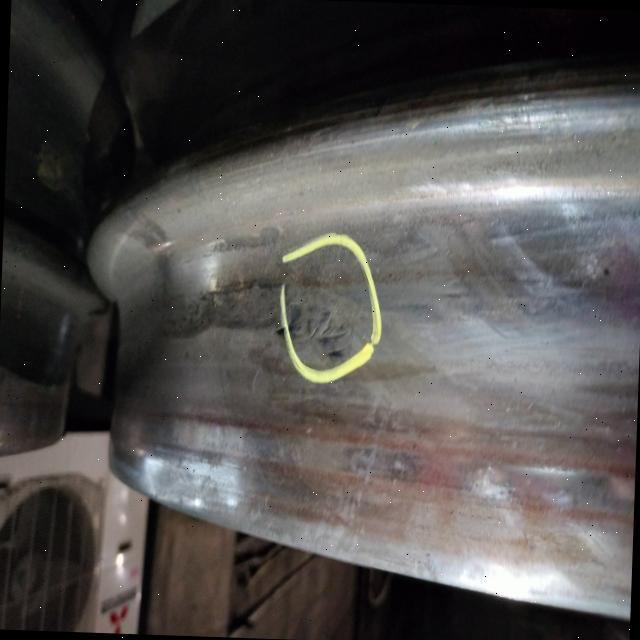Rollerpile: (182, 276, 359, 351)
